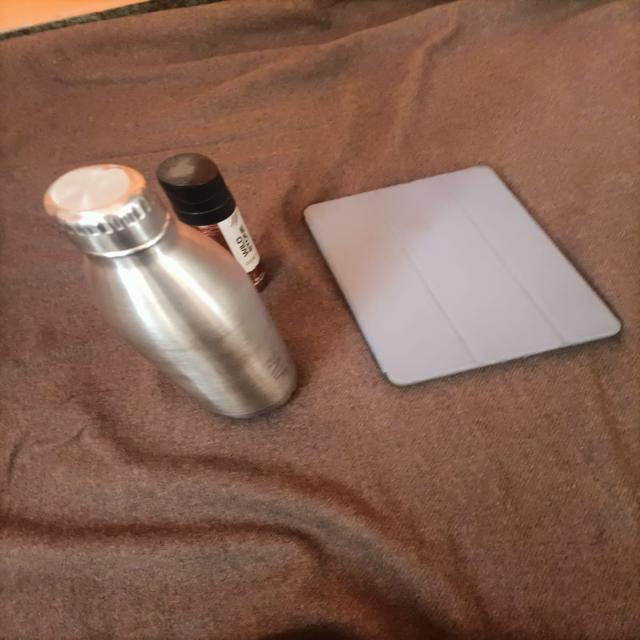bottle: (26, 133, 313, 447)
spray: (110, 103, 321, 303)
tablet: (290, 114, 630, 414)
